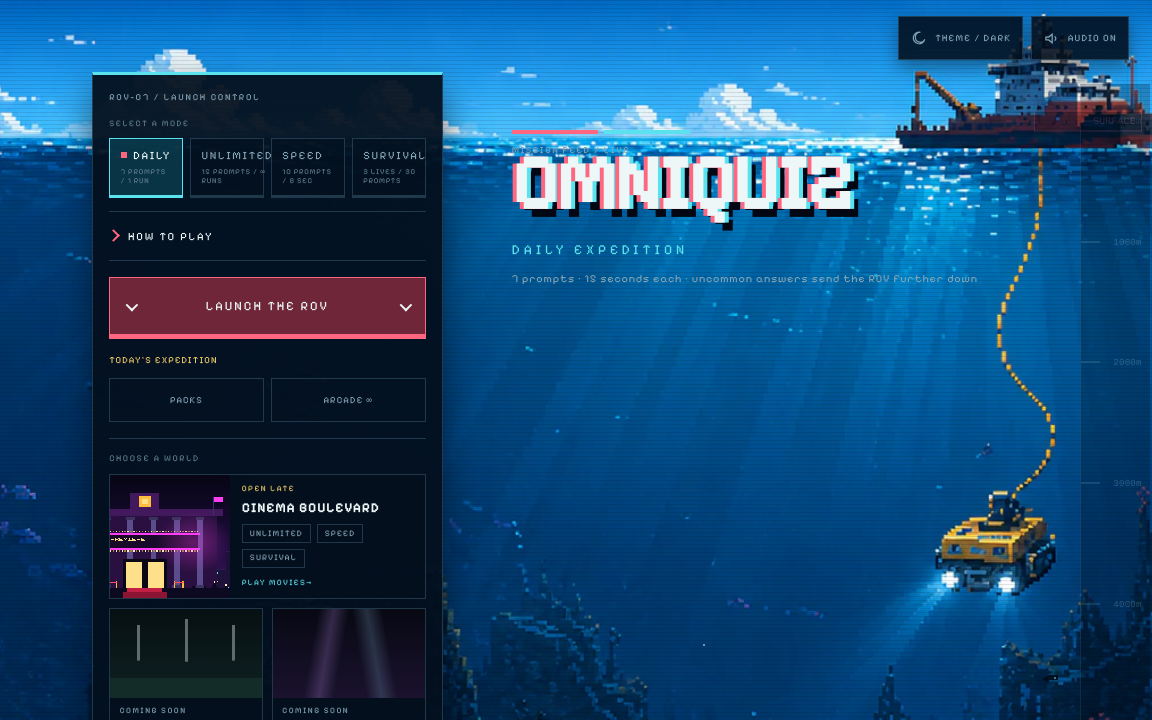
Test: GameExperience › shows share, points, depth, canonical label, and common comparisons
The image size is (1152, 720).
Step 1. Click the button "LAUNCH THE ROV" → x=267, y=308, box left=109, top=277, right=426, bottom=339
Wait 3000 ms
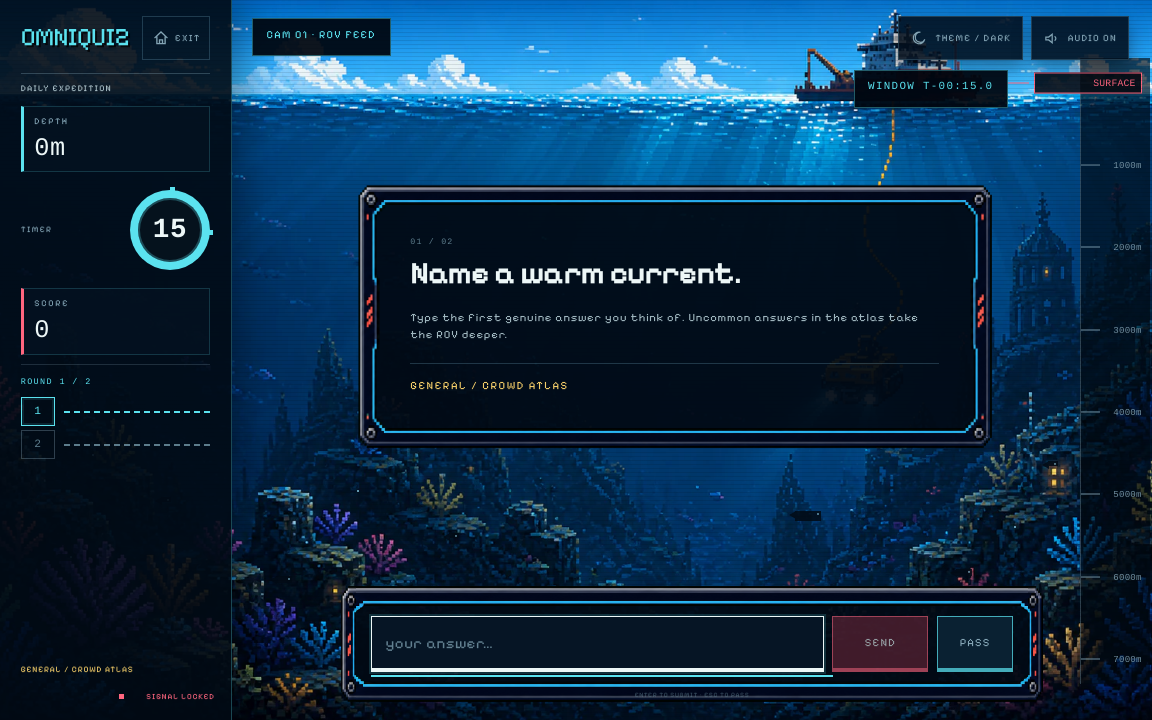
Step 2. Type "Gulf Stream" into the field with placeholder "your answer…" → x=597, y=644, box left=371, top=616, right=824, bottom=672
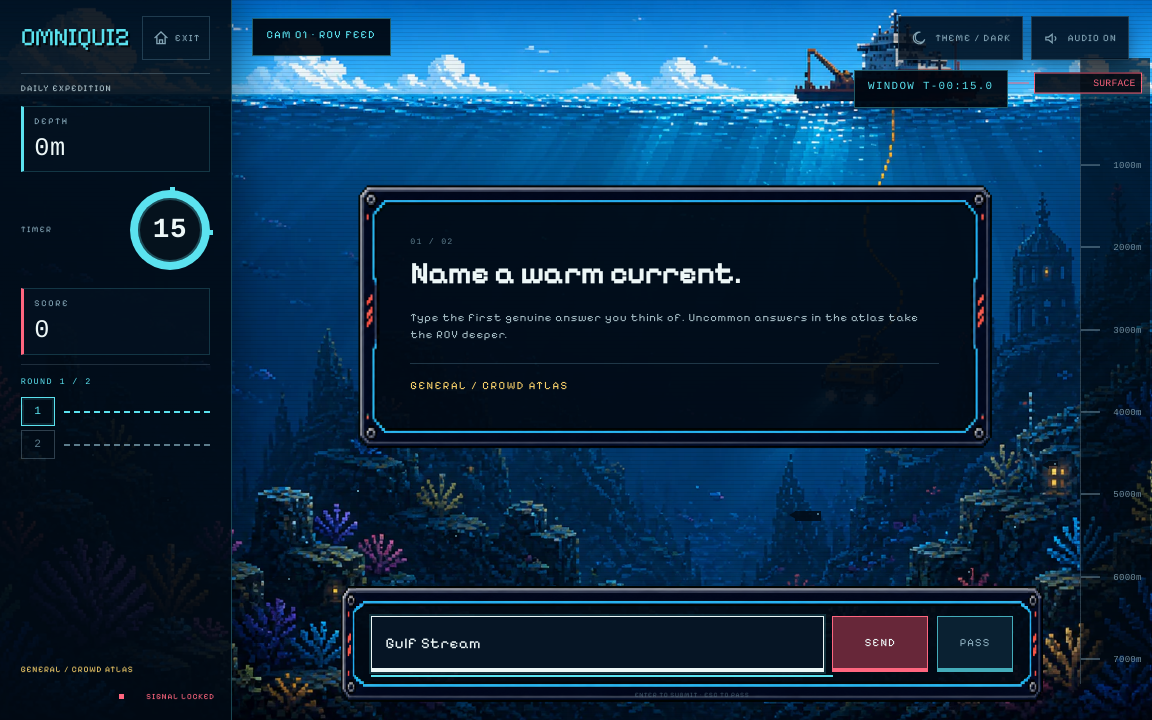
Step 3. Click the button "SEND" → x=880, y=644, box left=832, top=616, right=928, bottom=672
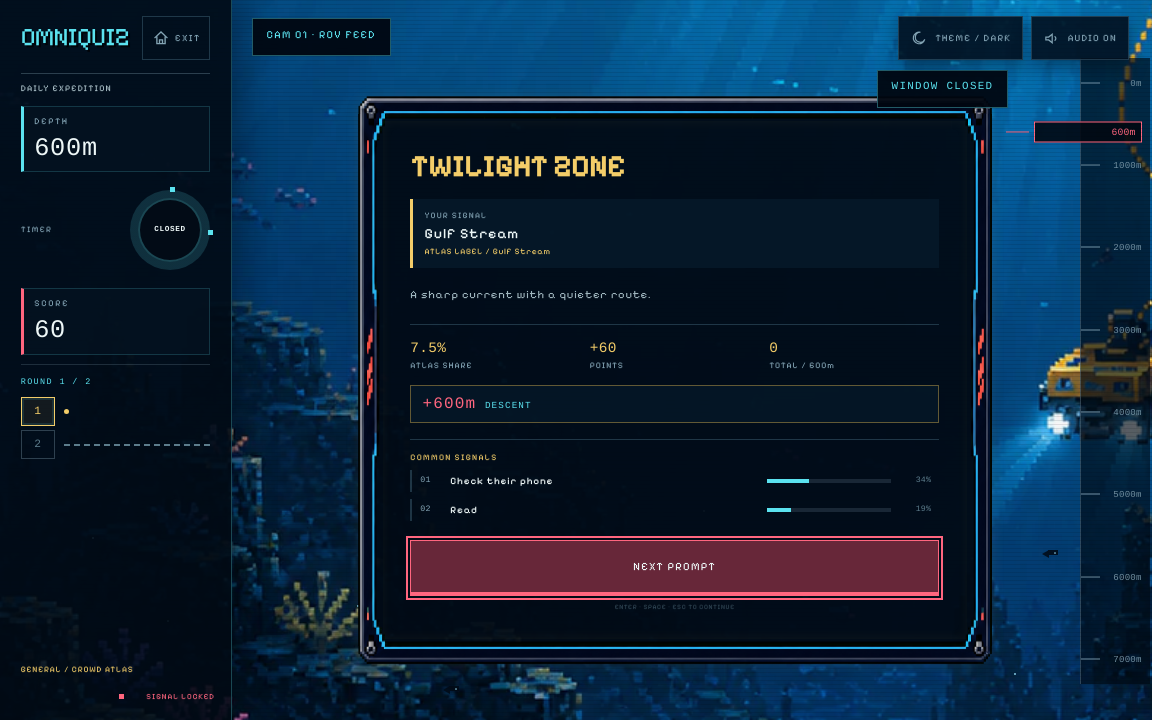
Now the message shows "TWILIGHT ZONE", box left=410, top=147, right=625, bottom=185
Now the message shows "7.5%", box left=410, top=340, right=446, bottom=356
Now the message shows "+600m descent", box left=365, top=103, right=985, bottom=657
